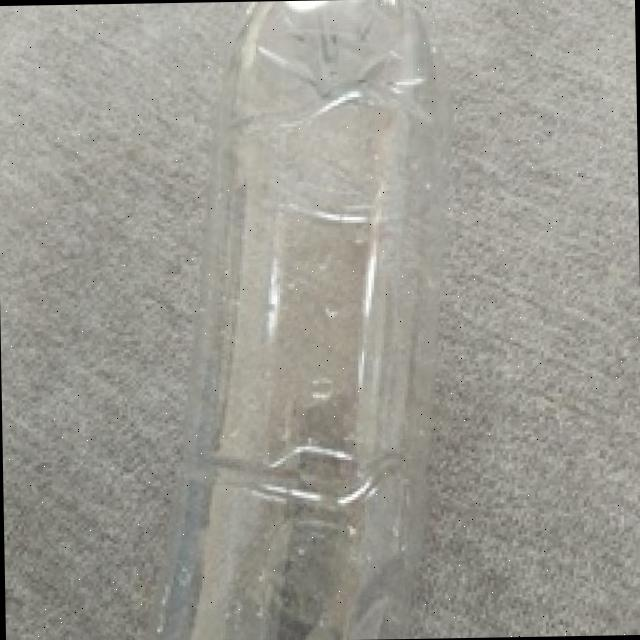bottle: (170, 0, 460, 640)
